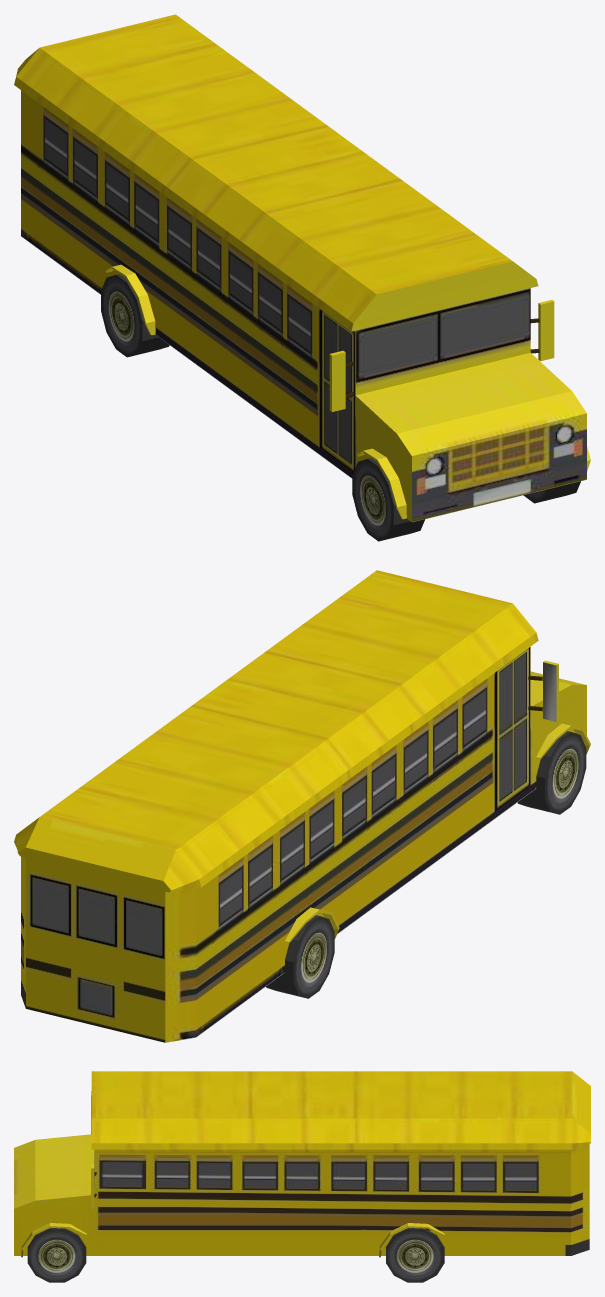
Rendered from school_1.glb.
3 views of the same model, one above another, from view 1: azimuth 30°, elevation 25°; view 2: azimuth 150°, elevation 25°; view 3: azimuth 270°, elevation 25° (orthographic). The views are drawn at different scales.
Parts seen in each view (by area): view 1: School Buss; view 2: School Buss; view 3: School Buss.
Part boxes in pixels (<box>): School Buss: <box>14,14,590,541</box>; School Buss: <box>14,570,590,1042</box>; School Buss: <box>14,1071,590,1282</box>.
Size of the model in its own units: 0.4404 by 0.4128 by 1.39.
1 material, 1 textured.
